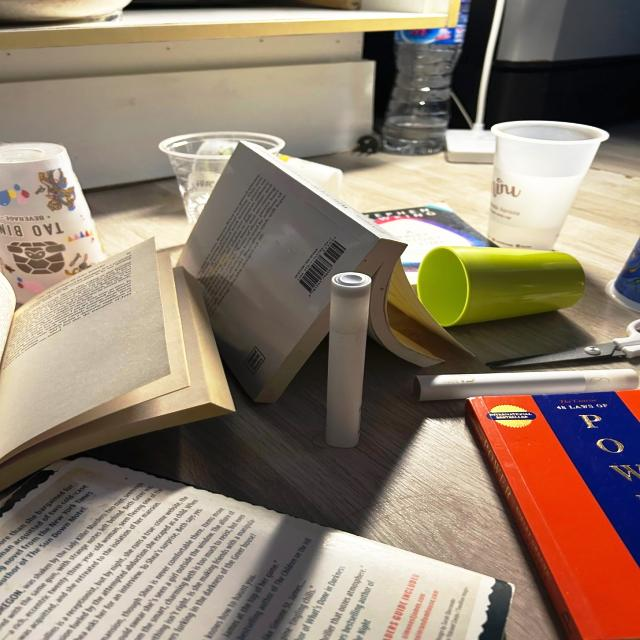Book: (0, 458, 514, 640), (179, 139, 478, 405), (0, 239, 236, 501), (466, 390, 639, 640), (365, 203, 489, 285)
HighLight Pen: (326, 273, 371, 448), (415, 368, 639, 401)
Plastic Cup: (0, 143, 105, 304), (488, 121, 608, 250), (161, 133, 288, 233), (278, 157, 346, 196), (608, 238, 639, 312)
WaterGlass: (416, 247, 585, 327)
